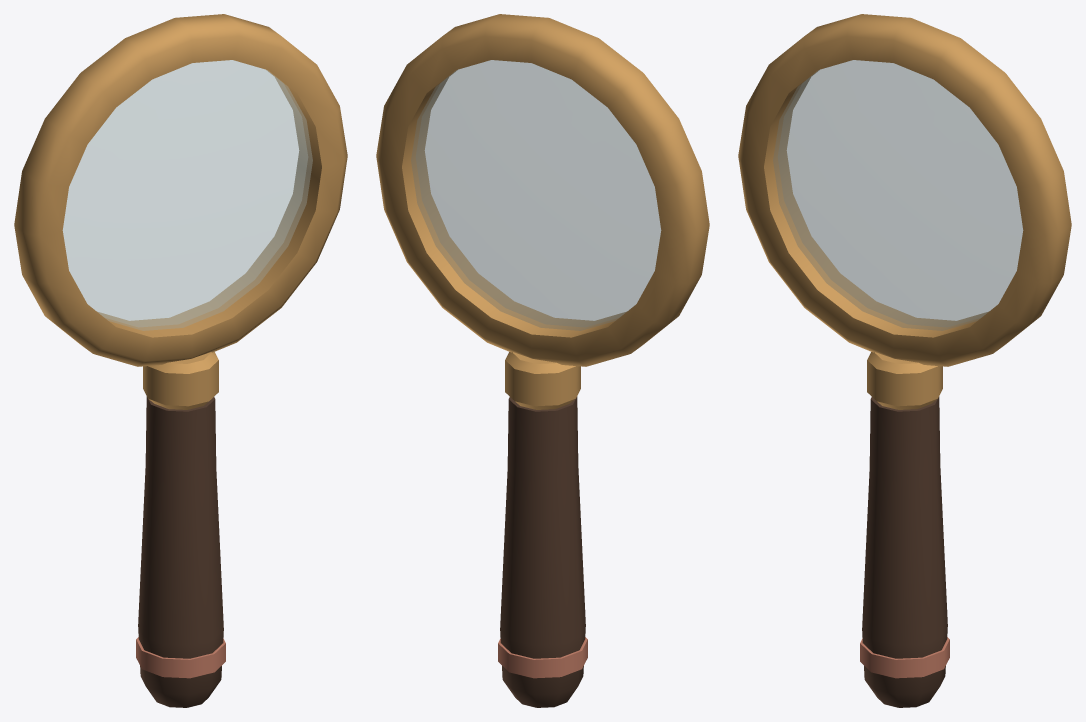
The model's file is lente.glb.
The picture shows the model from 3 angles, left to right: view 1: azimuth 30°, elevation 25°; view 2: azimuth 150°, elevation 25°; view 3: azimuth 330°, elevation 25°; orthographic projection.
Parts seen in each view (by area): view 1: montatura, vetro_lente; view 2: montatura, vetro_lente; view 3: montatura, vetro_lente.
Boxes of the visible parts, box(x1,y1,x2,y2) form: montatura: box(14, 14, 347, 707); vetro_lente: box(62, 60, 312, 330); montatura: box(376, 14, 709, 707); vetro_lente: box(411, 60, 661, 330); montatura: box(738, 14, 1071, 707); vetro_lente: box(773, 60, 1023, 330).
Bounding box in the file's own units: 0.073 × 0.1465 × 0.0169.
